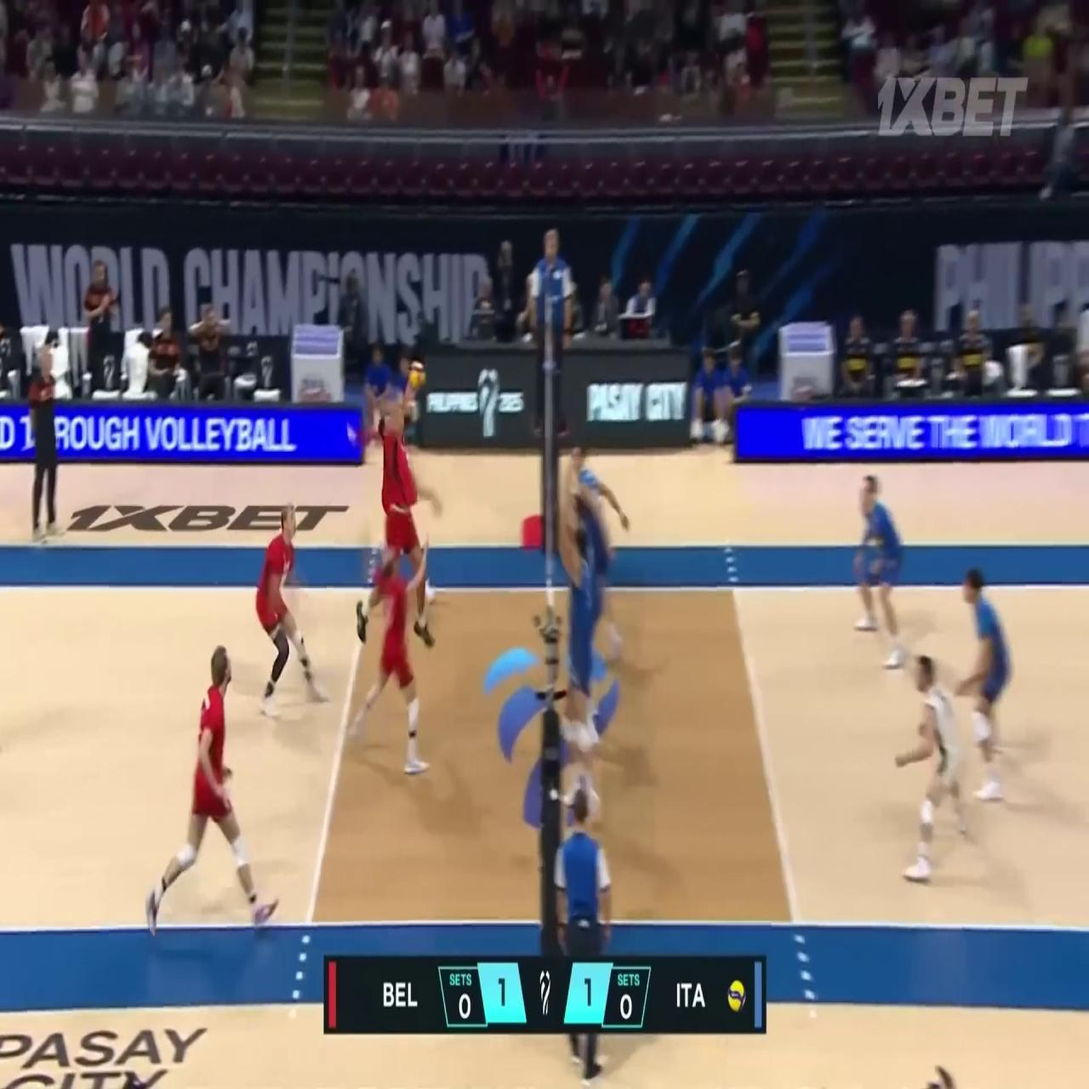ball: (409, 360, 426, 392)
